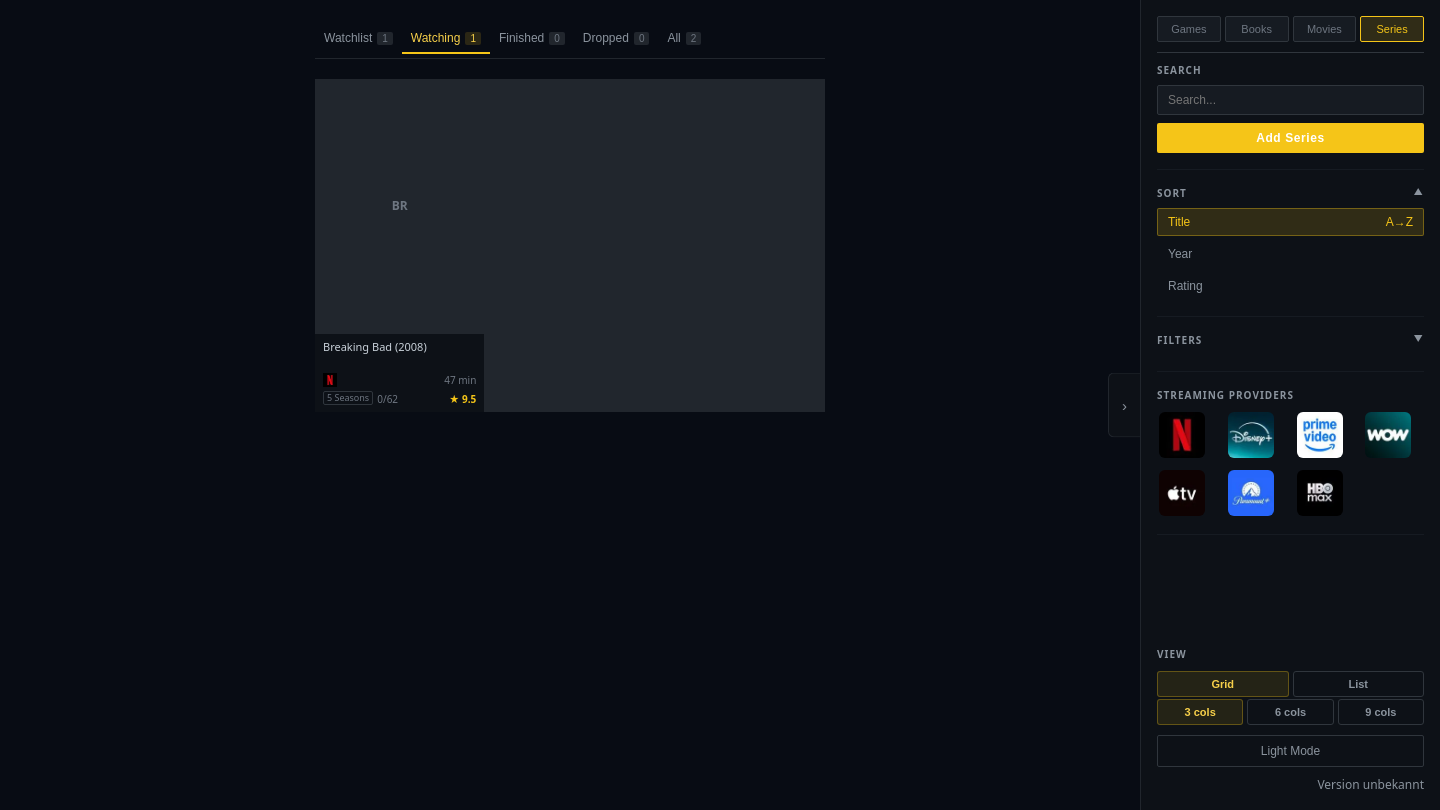
SeriesList – Tabs › Watchlist-Tab zeigt Watchlist-Serien
Click the button with class "tab" showing "Watchlist 1" at (358, 39), box [315,24,402,54]
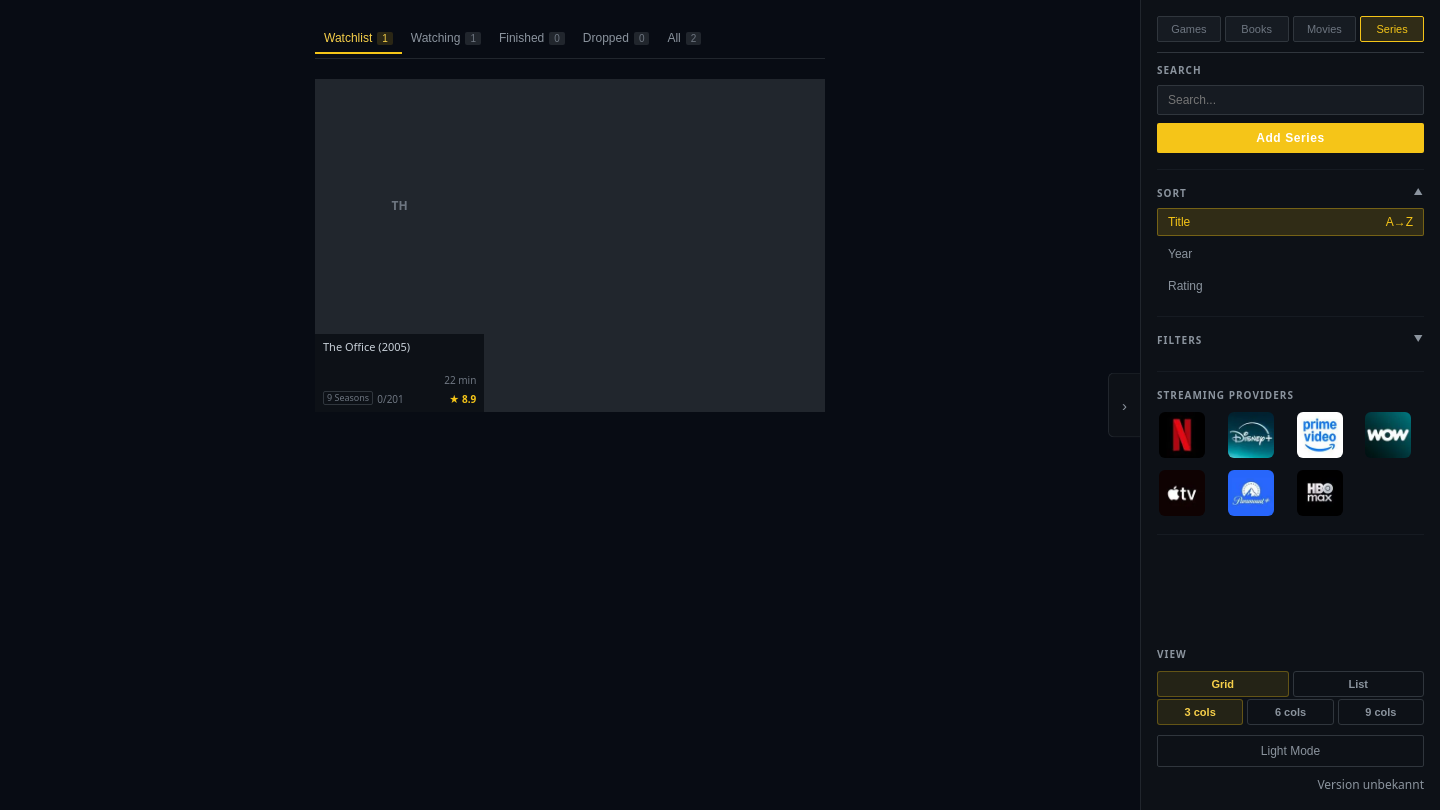
Check: the text "The Office" is shown, box [323,339,376,354]
Check: the text "Breaking Bad" is gone
